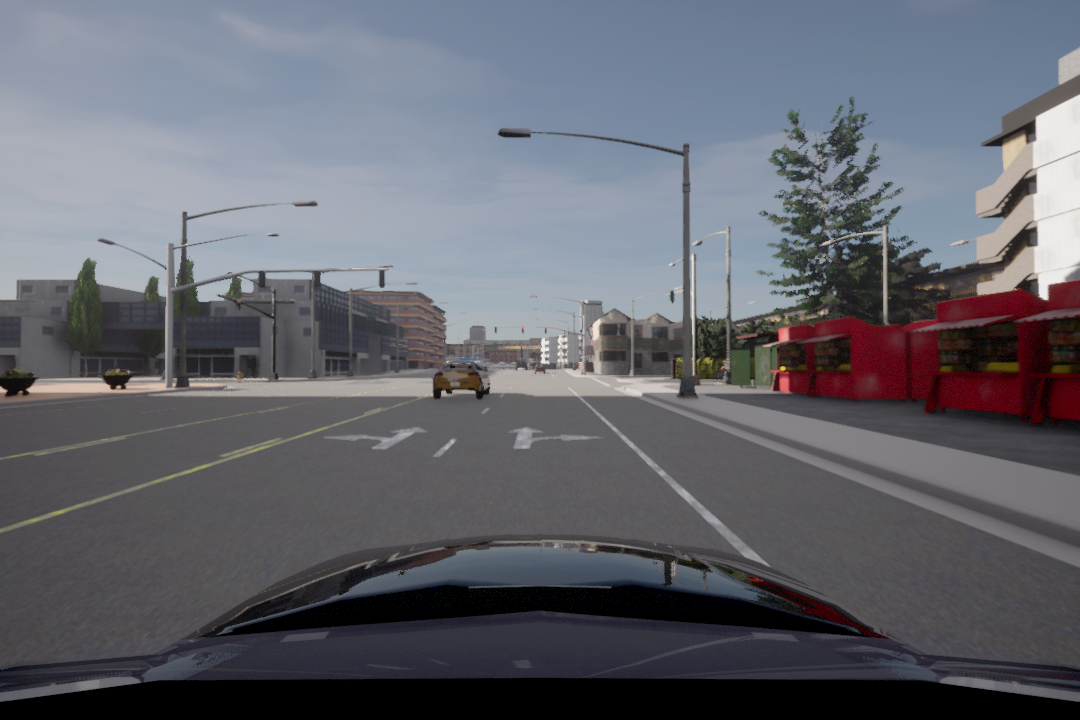RoadSign_forward_left: (320, 424, 427, 455)
RoadSign_forward_right: (507, 423, 607, 454)
